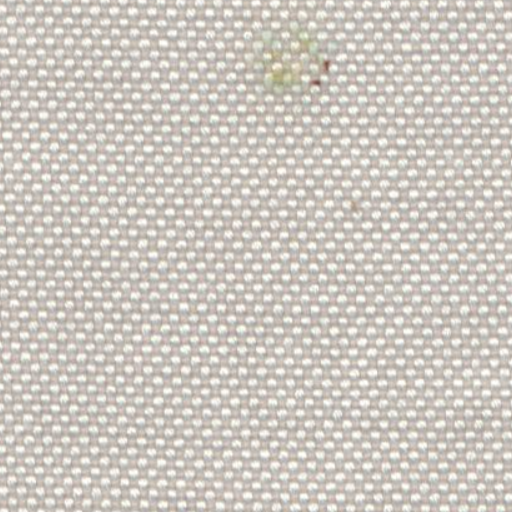WuZi: (236, 6, 356, 118), (341, 190, 382, 235)
